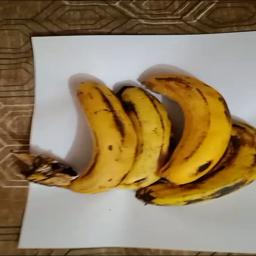Banana Semifresh: (137, 67, 239, 197), (56, 75, 141, 201), (107, 75, 181, 201)
